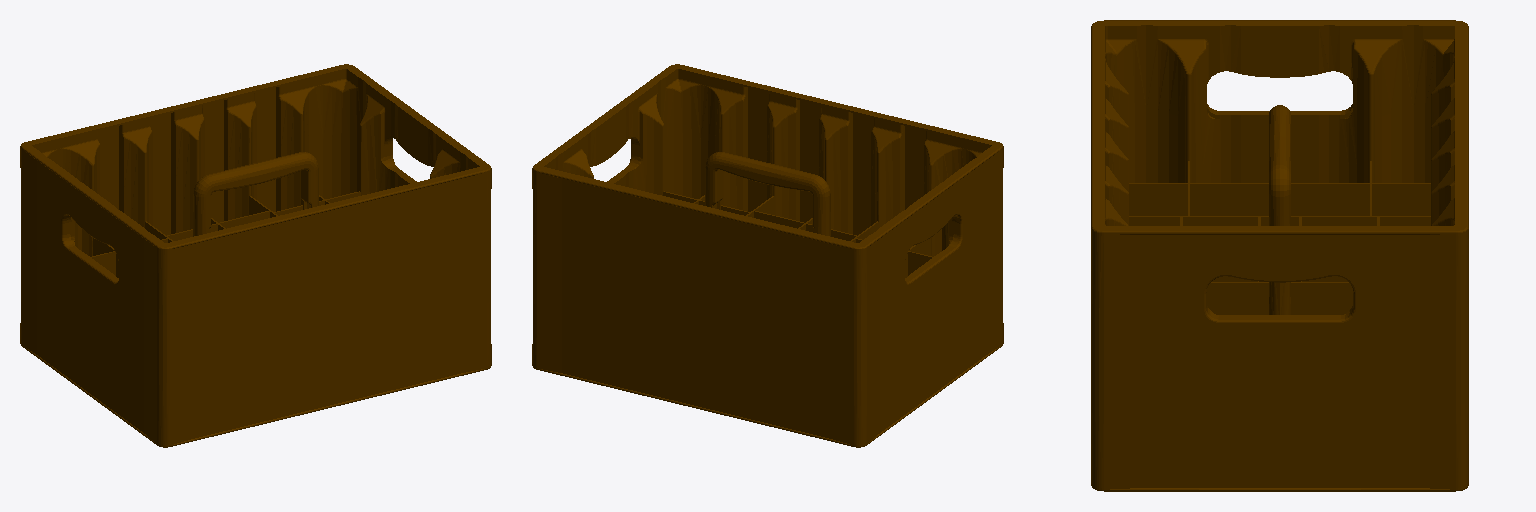
The robot description file, URDF, robot "hertog_krat":
<robot
  name="hertog_krat">
  <link
    name="hertog_krat">
    <inertial>
      <origin
        xyz="0.19801 -0.149 0.098284"
        rpy="0 0 0" />
      <mass
        value="4.7831" />
      <inertia
        ixx="0.0808133626484557"
        ixy="1.05971973869518E-07"
        ixz="1.95902256549394E-06"
        iyy="0.117103314852648"
        iyz="2.15837569823006E-07"
        izz="0.155198924047863" />
    </inertial>
    <visual>
      <origin
        xyz="0 0 0"
        rpy="0 0 0" />
      <geometry>
        <mesh
          filename="package://hertog_krat/meshes/hertog_krat.dae" />
      </geometry>
      <material
        name="">
        <color
          rgba="0.37255 0.23529 0 1" />
      </material>
    </visual>
    <collision>
      <origin
        xyz="0 0 0"
        rpy="0 0 0" />
      <geometry>
        <mesh
          filename="package://hertog_krat/meshes/hertog_krat.dae" />
      </geometry>
    </collision>
  </link>
</robot>

--- What the picture shows (computed from the rendered views, not written in the file) ---
3 views of the same robot in one strip: view 1: azimuth 30°, elevation 25°; view 2: azimuth 150°, elevation 25°; view 3: azimuth 270°, elevation 25° (orthographic).
Model hertog_krat with 1 links and 0 joints (none), rooted at hertog_krat, posed all joints at 0.
Visible links, largest first — view 1: hertog_krat; view 2: hertog_krat; view 3: hertog_krat.
Boxes of the visible links, <box> form: hertog_krat: <box>20,64,491,447</box>; hertog_krat: <box>532,64,1003,447</box>; hertog_krat: <box>1091,20,1468,491</box>.
Bounding box of the posed robot: 0.396 × 0.298 × 0.227 m (x, y, z).
1 mesh visuals loaded from 1 distinct referenced files (1 Collada DAE).
